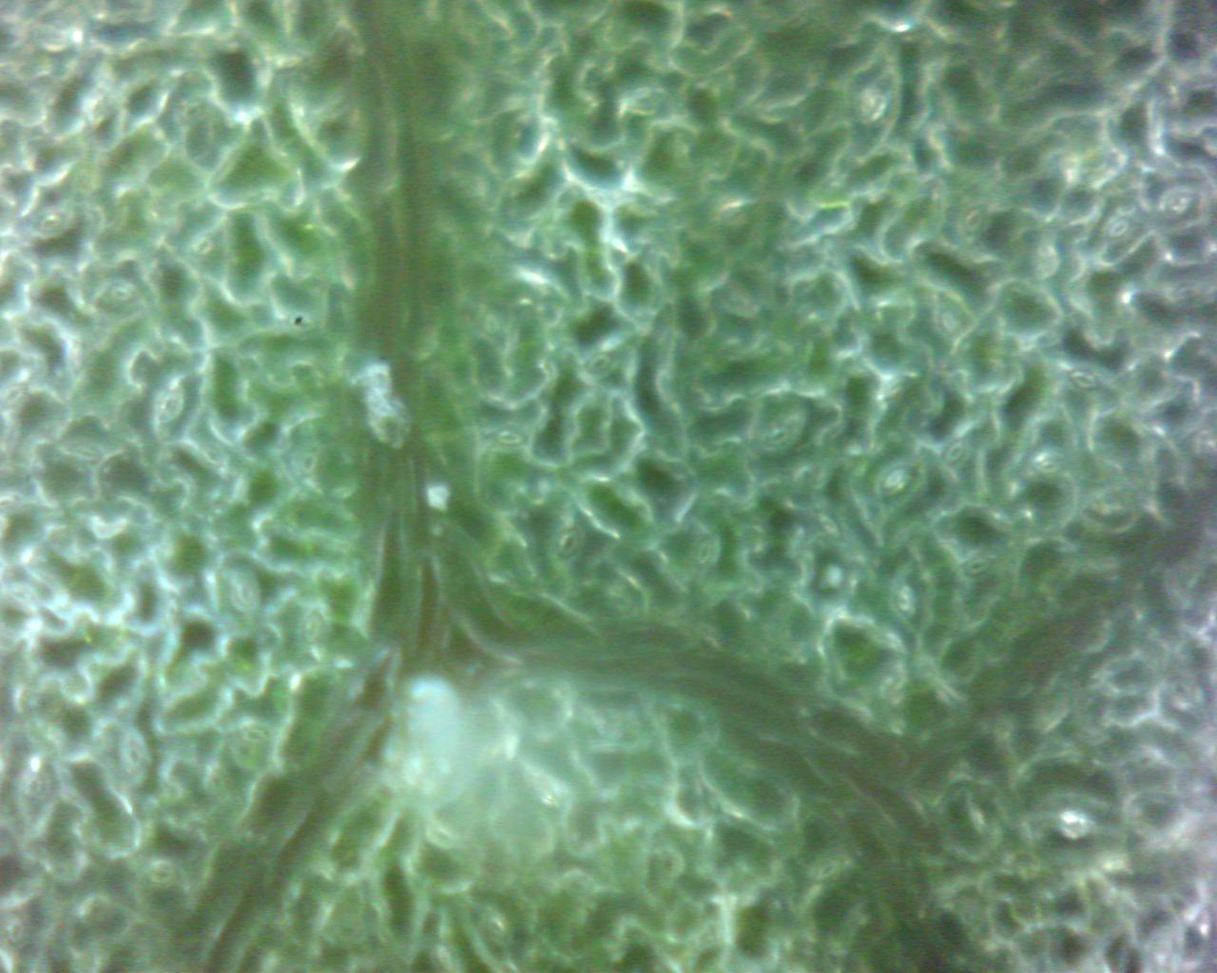stomata: (84, 88, 127, 135), (238, 718, 270, 753), (1148, 932, 1179, 968), (559, 871, 597, 898), (203, 768, 235, 800), (6, 906, 30, 948), (300, 609, 326, 647), (271, 47, 310, 72), (123, 737, 150, 773), (492, 424, 529, 450), (145, 860, 180, 887), (234, 576, 260, 612), (863, 93, 891, 126), (69, 441, 103, 468), (39, 21, 69, 51), (1164, 190, 1195, 219), (25, 766, 48, 804), (1172, 280, 1206, 305), (557, 528, 581, 562), (163, 595, 184, 633), (892, 583, 914, 618), (1068, 371, 1103, 393), (35, 210, 68, 233), (484, 908, 505, 944), (67, 342, 88, 378), (586, 353, 616, 378), (158, 390, 182, 421), (695, 536, 717, 569), (299, 449, 321, 482), (965, 206, 986, 239), (883, 377, 913, 400), (812, 859, 840, 883), (961, 556, 995, 575), (1034, 456, 1063, 478), (1169, 679, 1196, 702), (765, 425, 792, 448), (821, 513, 842, 541), (1106, 217, 1130, 241), (882, 467, 905, 492), (202, 447, 227, 470), (943, 441, 964, 467), (6, 585, 33, 605), (940, 306, 957, 335), (107, 286, 136, 302), (182, 104, 204, 123), (191, 236, 214, 254)
